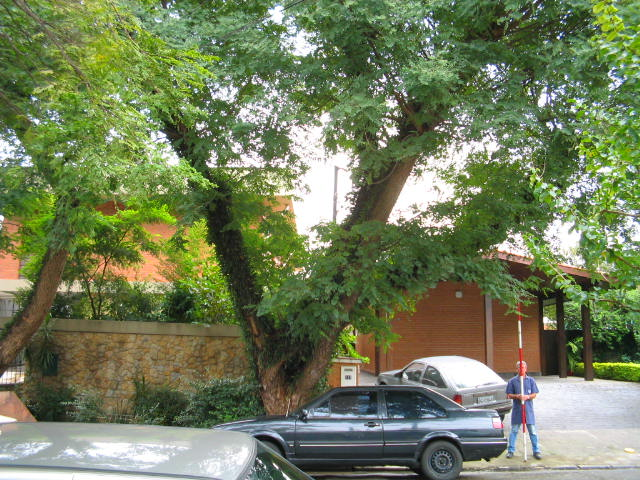stem: (250, 353, 334, 464)
stick: (511, 291, 533, 460)
tree: (123, 1, 538, 465)
